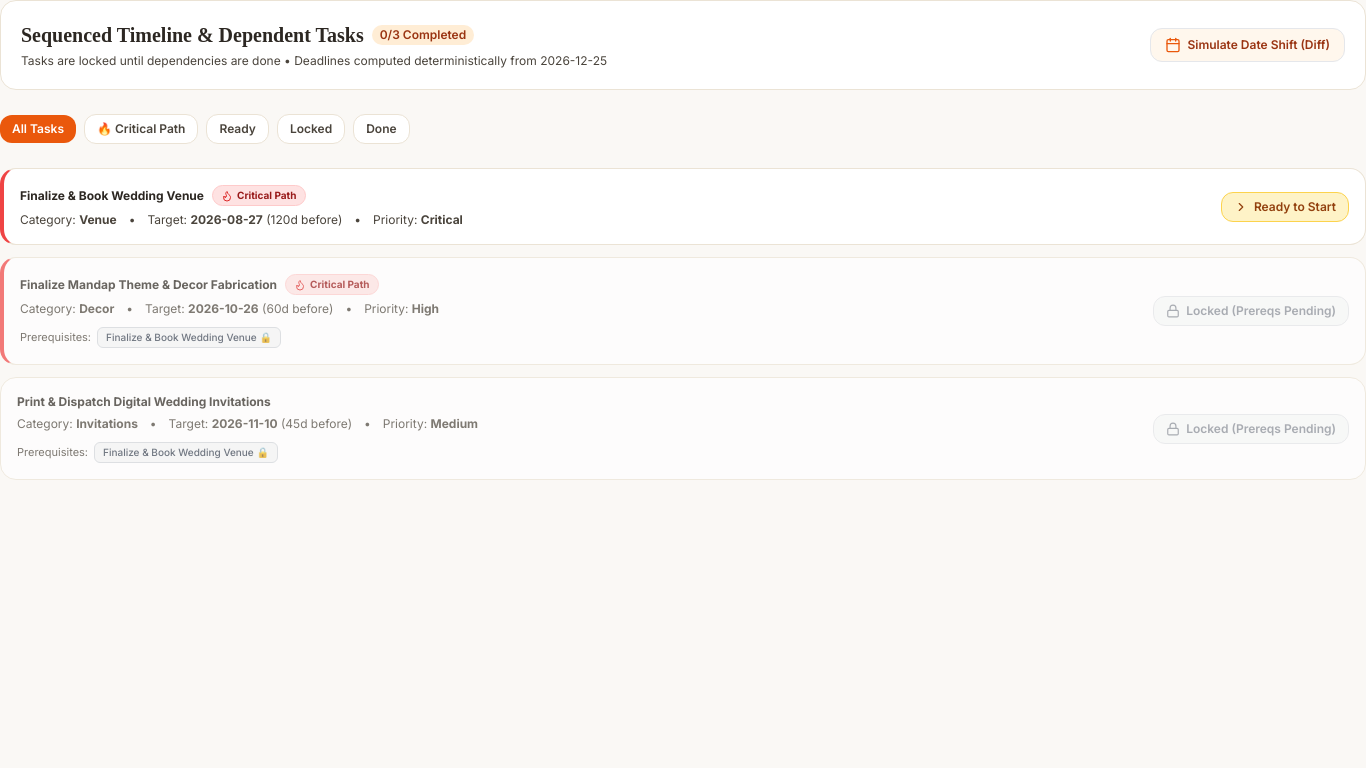
Scenario: TimelineTab Component › allows simulating a date shift, confirming and applying the shift to the event plan via commitDynamicChange
The image size is (1366, 768).
Expected: the text "Deadlines computed deterministically from 2026-12-25" is shown, 21,53 -> 607,69
Note: Click "Simulate Date Shift (Diff)" to open drawer
Click the button "Simulate Date Shift (Diff)": [1248, 45] box 1150,28 -> 1345,62
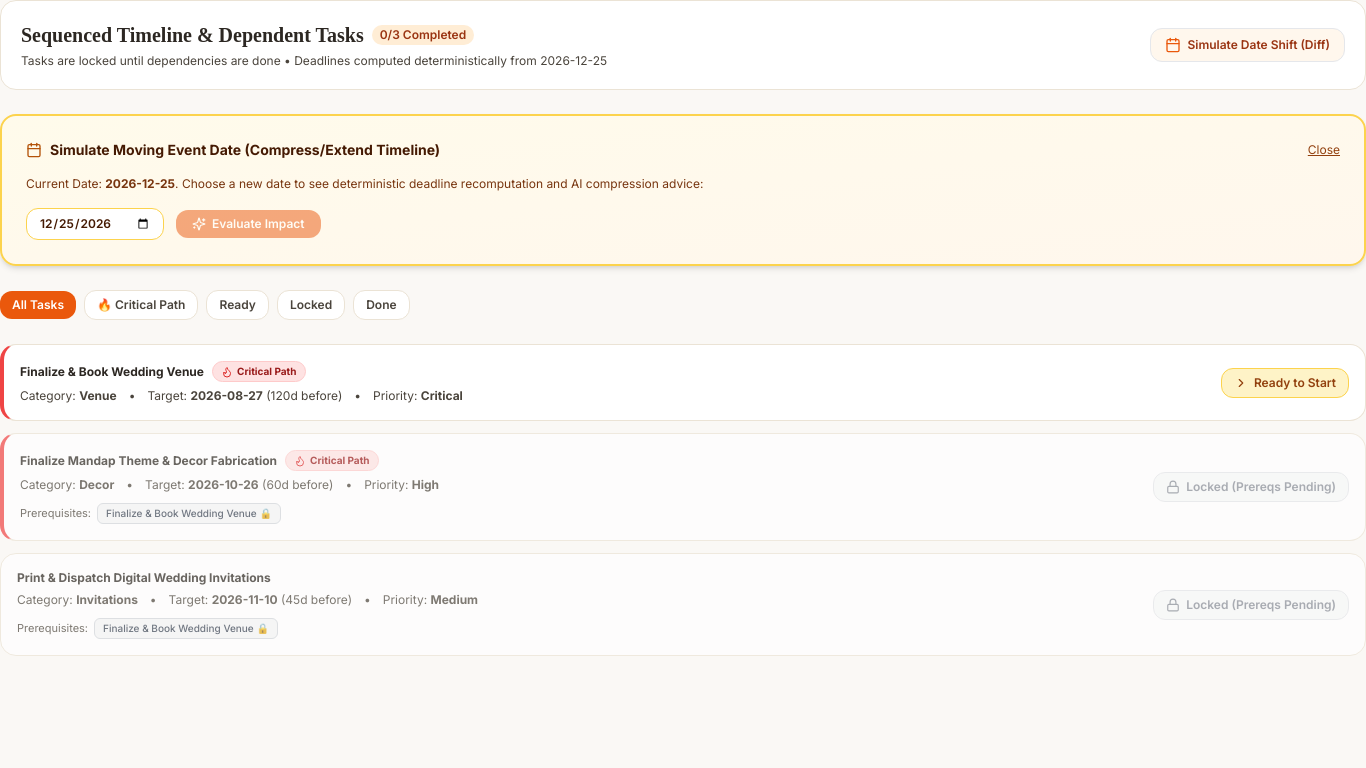
Result: the text "Simulate Moving Event Date (Compress/Extend Timeline)" is shown at 50,140 -> 440,160
Note: Change date input
In the date field showing "2026-12-25": [95, 224] box 26,208 -> 164,240, type "2026-11-25"
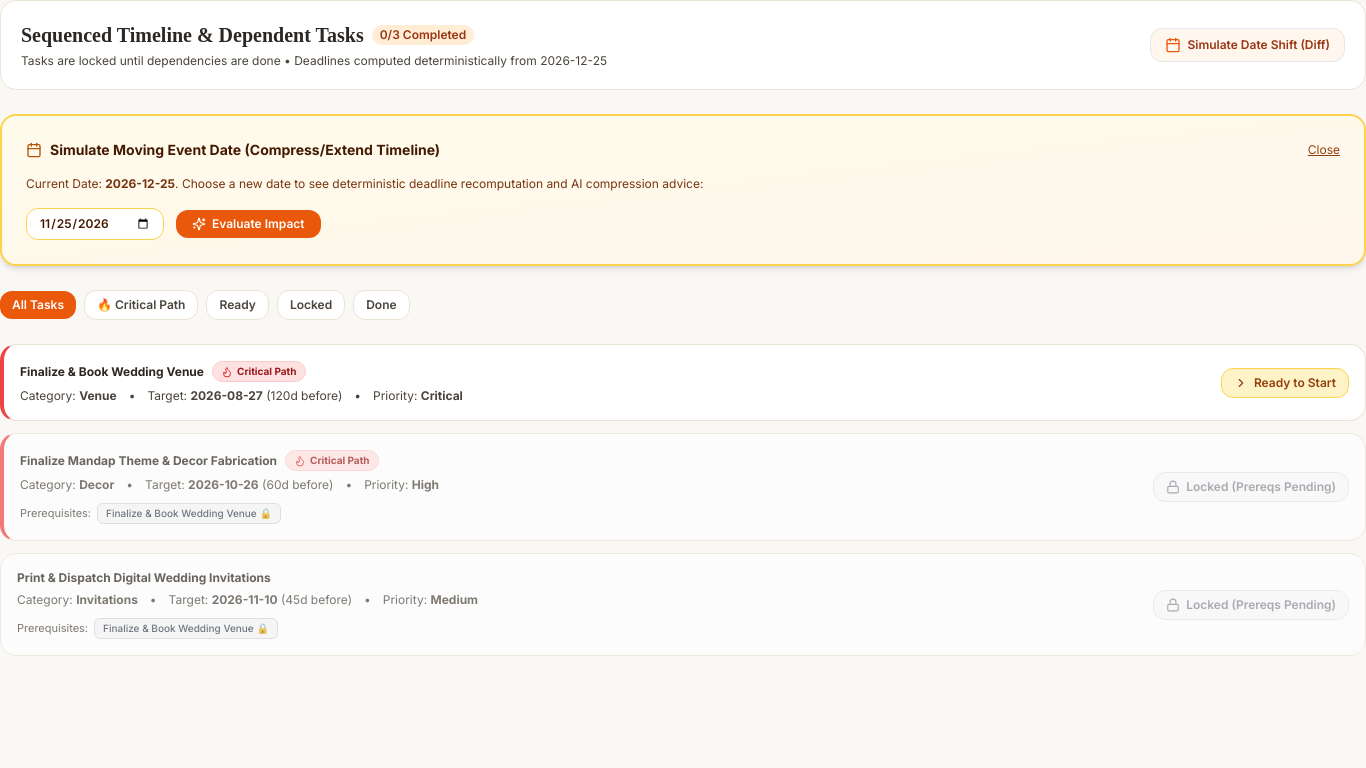
Note: Click "Evaluate Impact"
Click the button "Evaluate Impact": [248, 224] box 176,210 -> 321,238
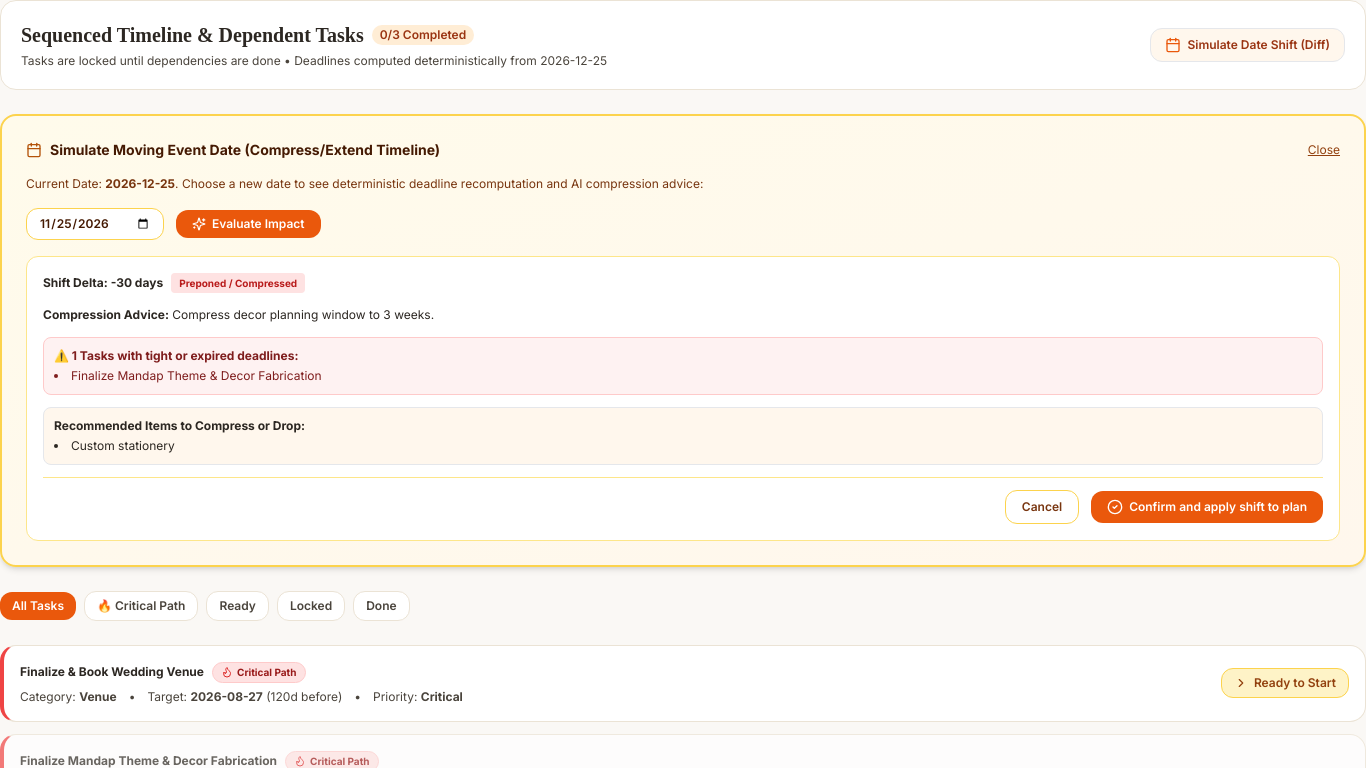
Result: the text "Shift Delta: -30 days" is shown at 43,275 -> 163,291
Result: the text "Preponed / Compressed" is shown at 171,273 -> 305,293
Result: the text "Compress decor planning window to 3 weeks" is shown at 172,307 -> 434,322
Note: Click "Confirm and apply shift to plan"
Click the button "Confirm and apply shift to plan": [1207, 506] box 1091,490 -> 1323,522
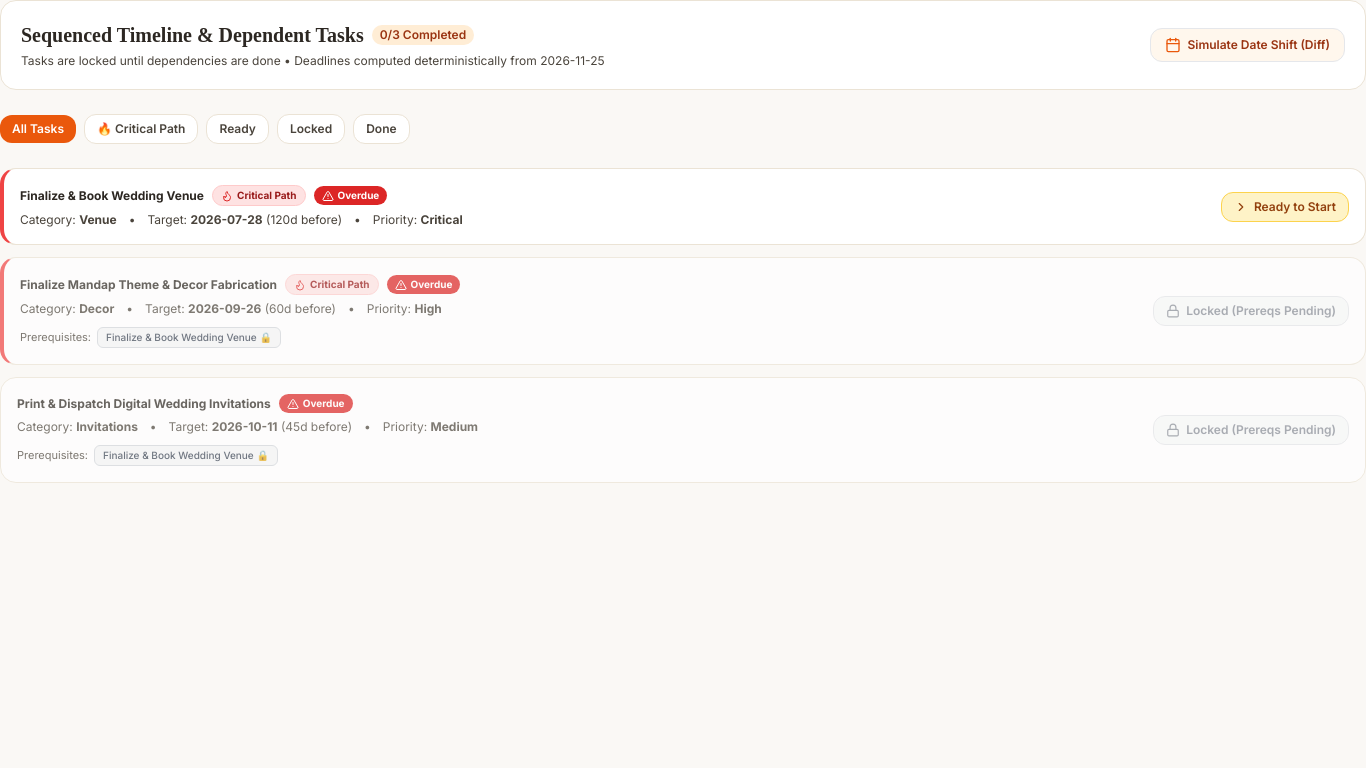
Result: the text "Simulate Moving Event Date" is gone
Result: the text "Deadlines computed deterministically from 2026-11-25" is shown at 21,53 -> 605,69
